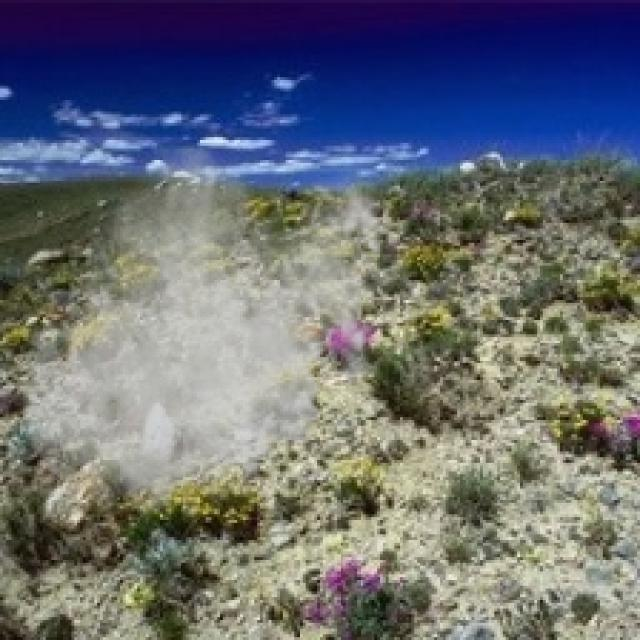Smoke: (14, 142, 397, 528)
